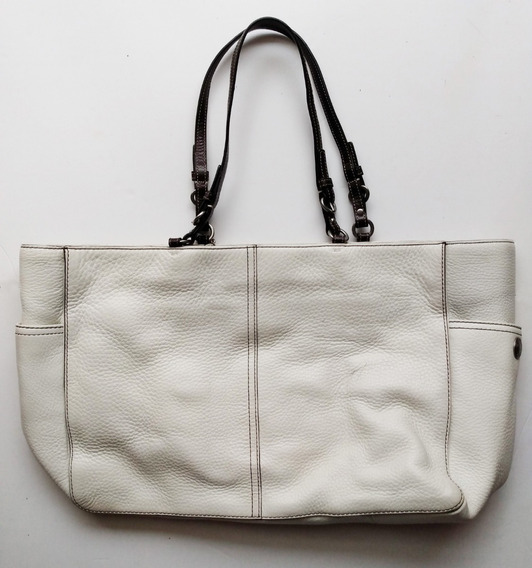cartera: (13, 16, 523, 527)
